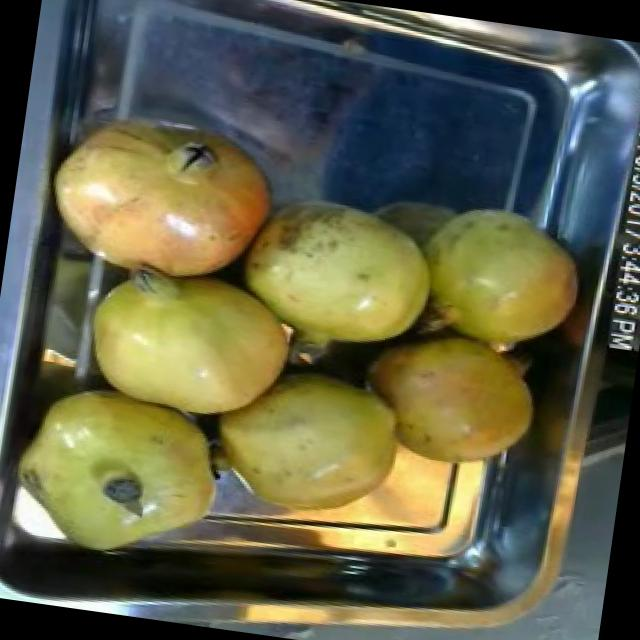fruit: (29, 89, 305, 304), (0, 367, 246, 577), (62, 248, 322, 441), (222, 178, 458, 370), (195, 346, 422, 533), (343, 312, 553, 485), (407, 192, 595, 368)
